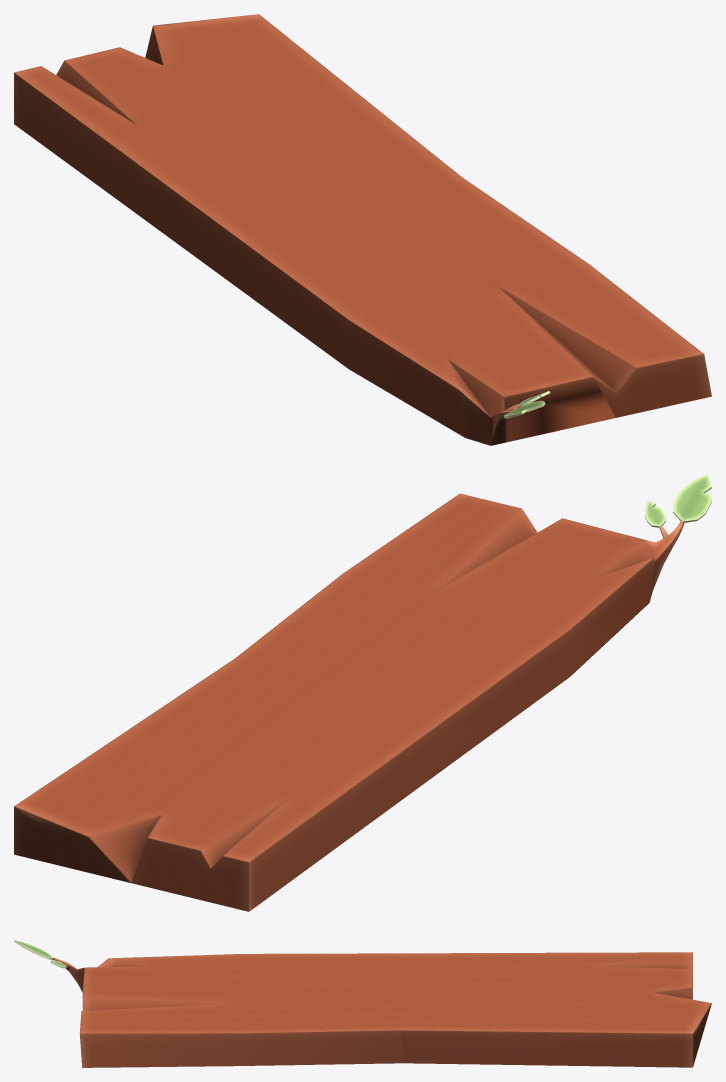
The model's file is Log.gltf.
3 renders of one model, top to bottom at view 1: azimuth 30°, elevation 25°; view 2: azimuth 150°, elevation 25°; view 3: azimuth 270°, elevation 25°, orthographic. The views are drawn at different scales.
Parts seen in each view (by area): view 1: log; view 2: log; view 3: log.
Part boxes in pixels (x1,y1,x2,y2): log: (14, 14, 711, 445); log: (14, 474, 711, 911); log: (14, 940, 711, 1067).
Size of the model in its own units: 3.6 by 1.16 by 13.18.
